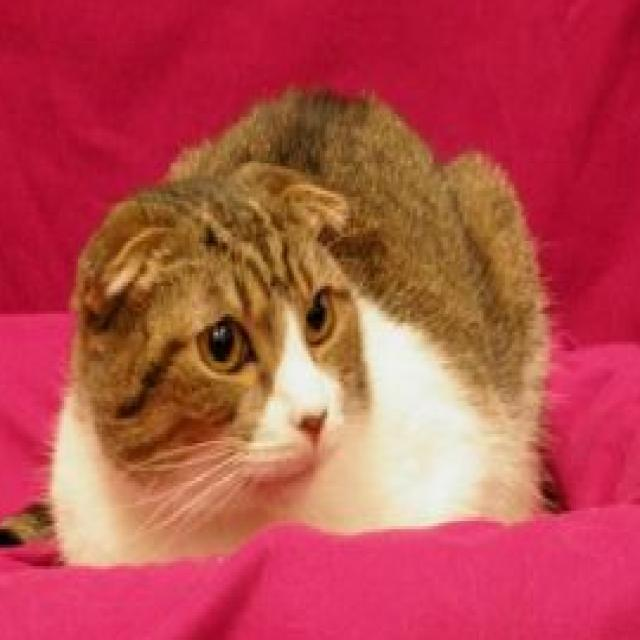Scottish Fold: (0, 77, 557, 572)
